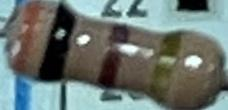Black: (38, 4, 80, 83)
Brown: (96, 20, 131, 85)
Orange: (10, 3, 46, 74)
Side-Gold: (148, 26, 184, 110)
